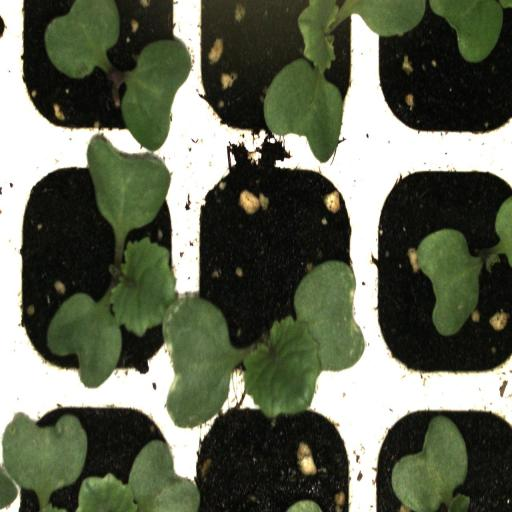Folha: (263, 0, 512, 163), (391, 415, 470, 512)
Germinacao: (190, 143, 367, 391), (12, 140, 191, 384), (366, 152, 512, 393), (8, 0, 190, 141), (188, 0, 372, 139)
